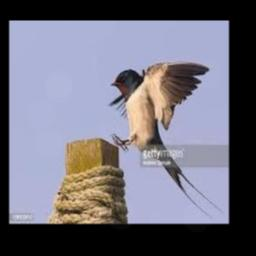Swallow: (108, 61, 223, 215)
